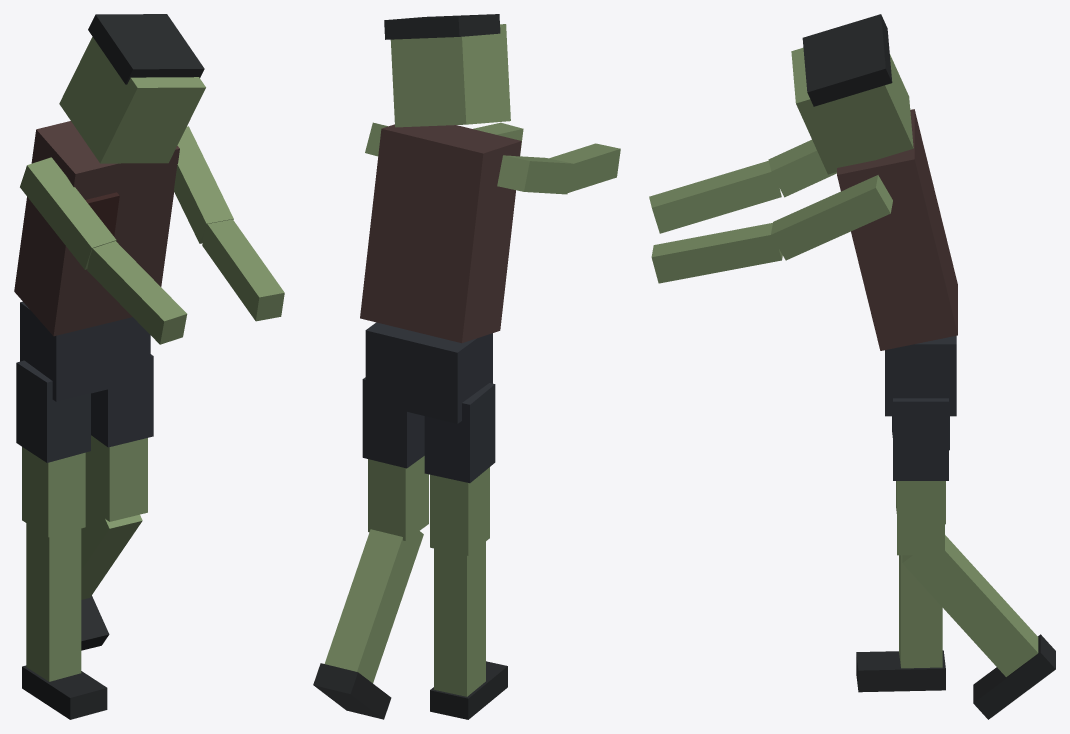
The model's file is zombie_runner.glb.
The picture shows the model from 3 angles, left to right: view 1: azimuth 30°, elevation 25°; view 2: azimuth 150°, elevation 25°; view 3: azimuth 270°, elevation 25°; orthographic projection. The views are drawn at different scales.
Parts seen in each view (by area): view 1: zombie_runner; view 2: zombie_runner; view 3: zombie_runner.
Part boxes in pixels (x1,y1,x2,y2): zombie_runner: (14,14,284,719); zombie_runner: (313,14,620,719); zombie_runner: (649,14,1055,719).
Size of the model in its own units: 0.4514 by 1.82 by 0.9913.
